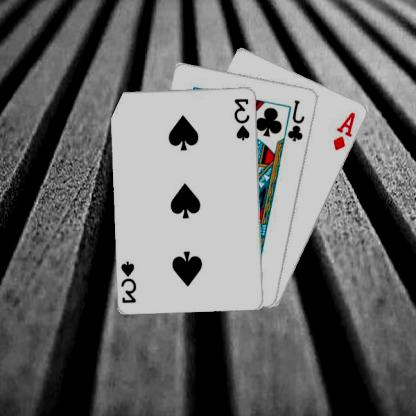3S: (233, 95, 254, 141), (121, 258, 140, 304)
AD: (332, 109, 359, 152)
JC: (287, 97, 308, 142)
